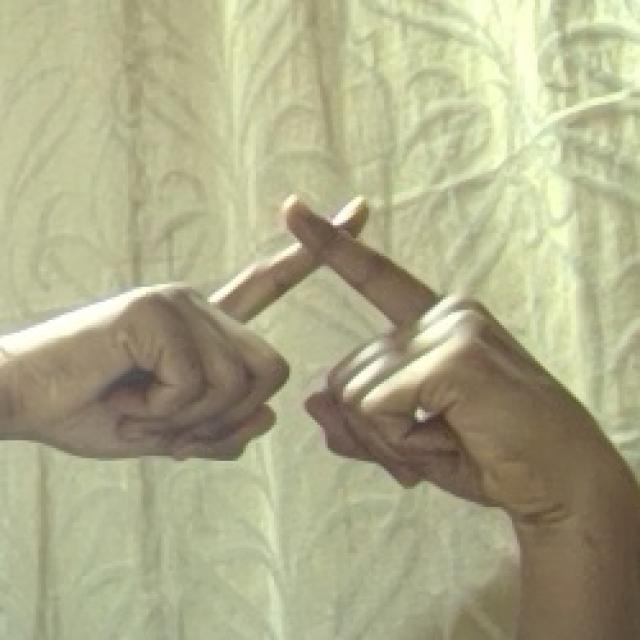Alphabet-X: (70, 155, 552, 535)
